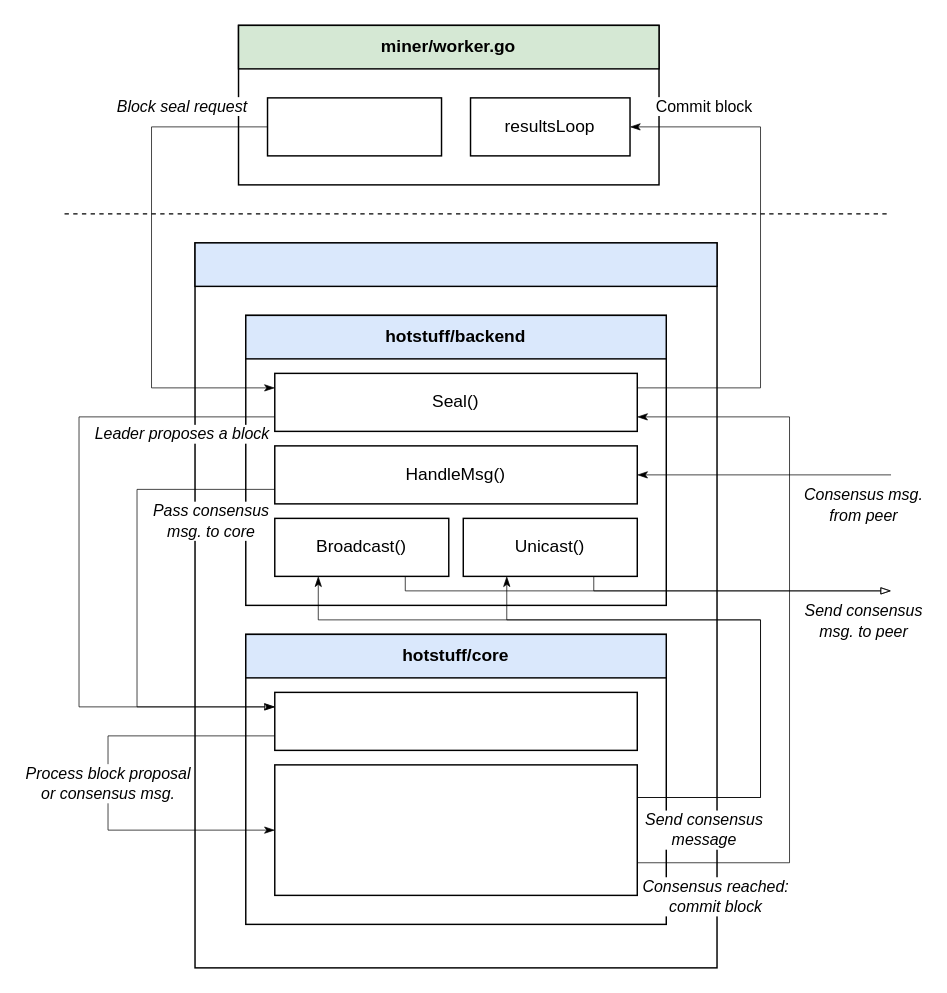
The diagram is 947 pixels wide and 993 high, and some of its shapes have lost their labels. The centre of each missing label's shape, as x and y in pixels:
Consensus Phase Logic: point 455,829
Event Handler: point 455,720
HotStuff Module: point 455,263
taskLoop: point 354,126
